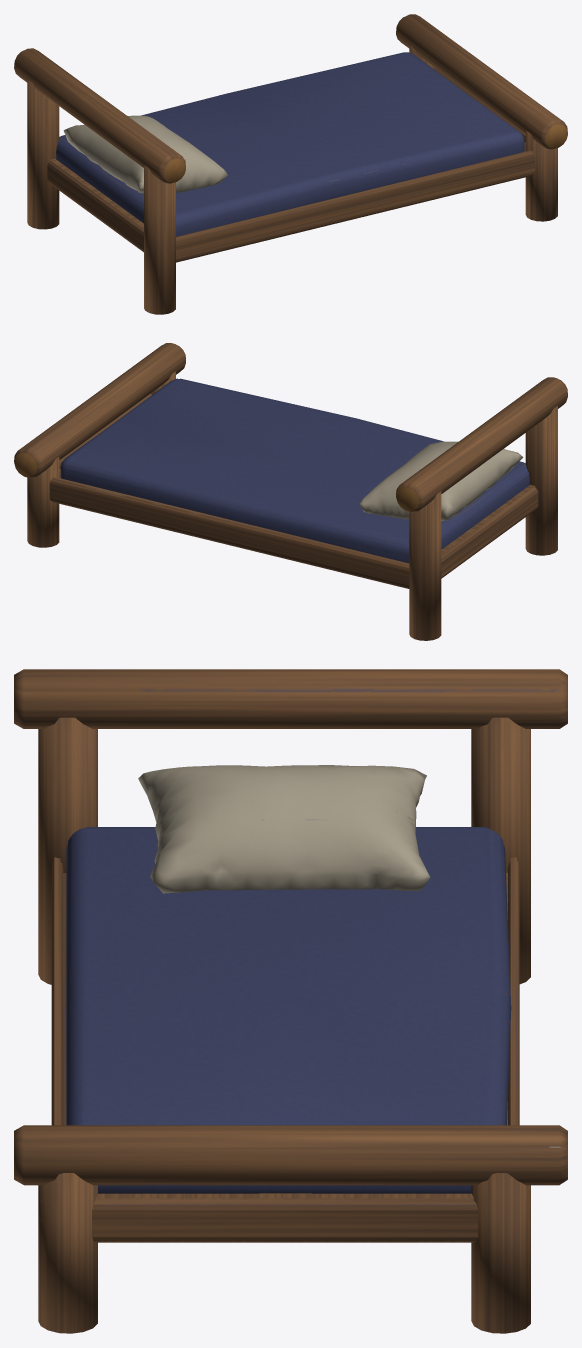
Rendered from SingleBed1.fbx.
The picture shows the model from 3 angles, top to bottom: view 1: azimuth 30°, elevation 25°; view 2: azimuth 150°, elevation 25°; view 3: azimuth 270°, elevation 25°; orthographic projection. The views are drawn at different scales.
Visible parts, largest first — view 1: SingleBed1; view 2: SingleBed1; view 3: SingleBed1.
Part boxes in pixels (x1=…): SingleBed1: x1=14, y1=14, x2=567, y2=314; SingleBed1: x1=14, y1=343, x2=567, y2=640; SingleBed1: x1=14, y1=669, x2=567, y2=1333.
Size of the model in its own units: 376 by 143 by 237.
